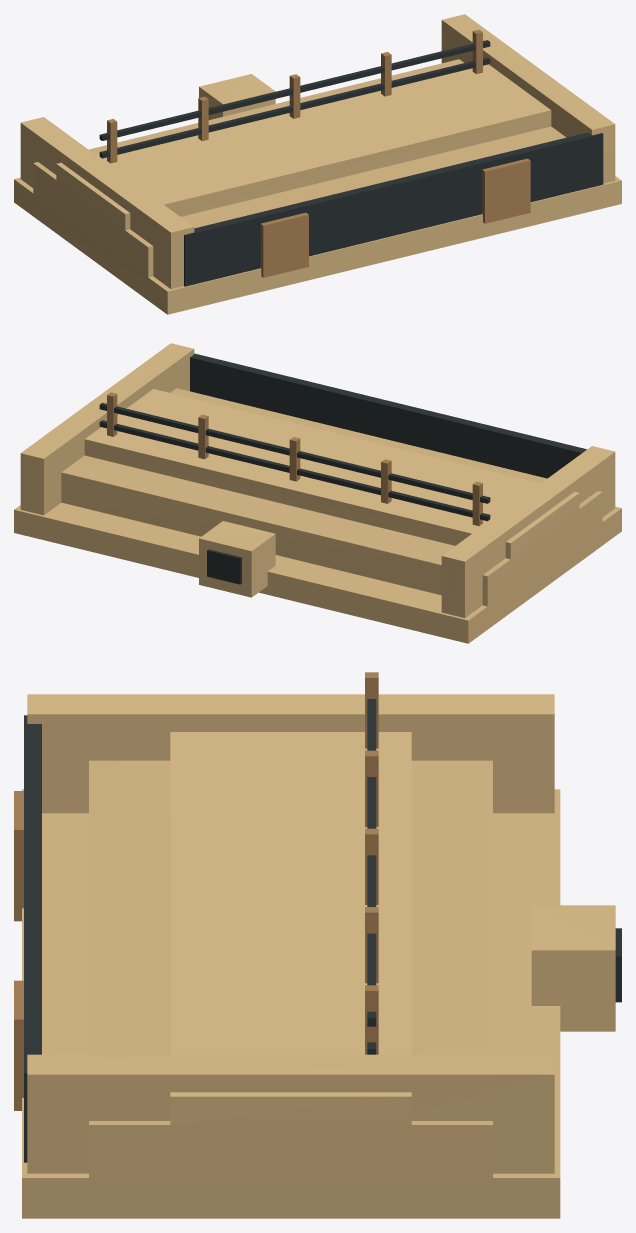
File: Levee.glb
3 renders of one model, top to bottom at view 1: azimuth 30°, elevation 25°; view 2: azimuth 150°, elevation 25°; view 3: azimuth 270°, elevation 25°, orthographic. The views are drawn at different scales.
Visible parts, largest first — view 1: levee-static-levee-cream-path-outlet, levee-static-levee-pale-earth-embankment, levee-static-levee-charcoal-sheet-pile-rails, levee-static-levee-muted-teal-access-gates, levee-static-levee-warm-timber-marker-posts; view 2: levee-static-levee-cream-path-outlet, levee-static-levee-pale-earth-embankment, levee-static-levee-charcoal-sheet-pile-rails, levee-static-levee-warm-timber-marker-posts; view 3: levee-static-levee-cream-path-outlet, levee-static-levee-pale-earth-embankment, levee-static-levee-charcoal-sheet-pile-rails, levee-static-levee-warm-timber-marker-posts, levee-static-levee-muted-teal-access-gates.
Part boxes in pixels (<box>): levee-static-levee-cream-path-outlet: <box>20,14,615,288</box>; levee-static-levee-pale-earth-embankment: <box>14,59,621,314</box>; levee-static-levee-charcoal-sheet-pile-rails: <box>99,40,603,286</box>; levee-static-levee-muted-teal-access-gates: <box>260,158,530,277</box>; levee-static-levee-warm-timber-marker-posts: <box>107,29,482,163</box>; levee-static-levee-cream-path-outlet: <box>20,343,615,617</box>; levee-static-levee-pale-earth-embankment: <box>14,388,621,643</box>; levee-static-levee-charcoal-sheet-pile-rails: <box>99,353,586,584</box>; levee-static-levee-warm-timber-marker-posts: <box>107,392,482,525</box>; levee-static-levee-cream-path-outlet: <box>27,694,615,1173</box>; levee-static-levee-pale-earth-embankment: <box>22,760,560,1218</box>; levee-static-levee-charcoal-sheet-pile-rails: <box>24,699,621,1162</box>; levee-static-levee-warm-timber-marker-posts: <box>365,672,378,1054</box>; levee-static-levee-muted-teal-access-gates: <box>14,791,23,1110</box>.
Bounding box in the file's own units: 8.2 × 1.89 × 5.42.
